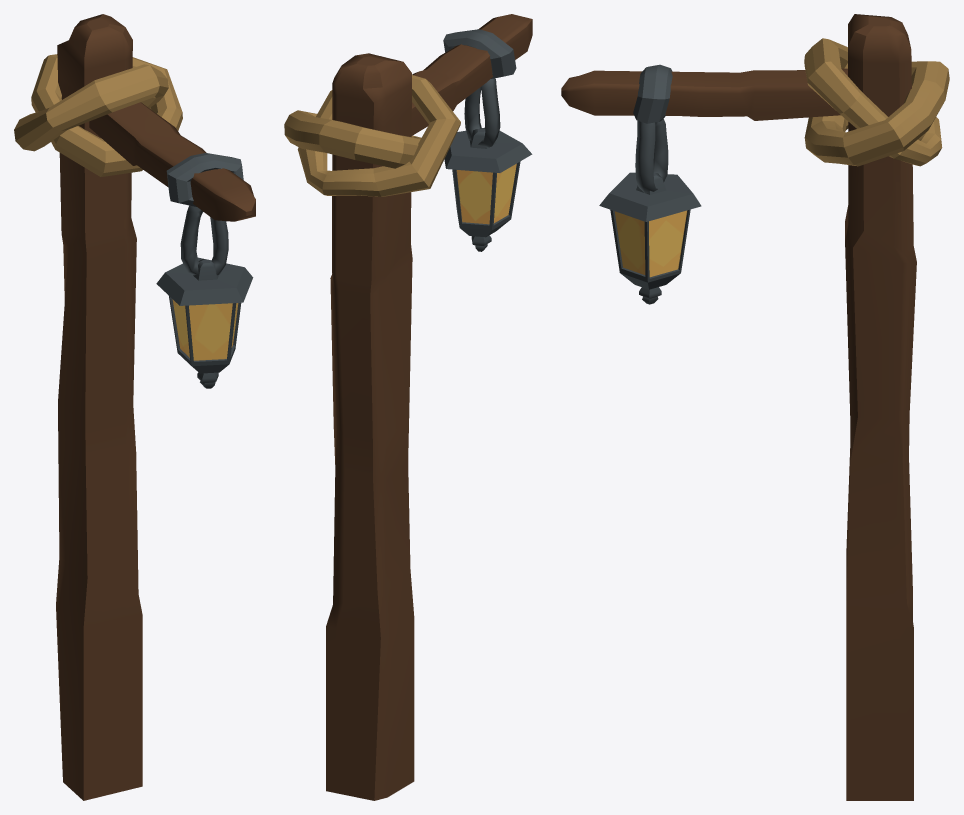
File: light.fbx
3 views of the same model, side by side, from view 1: azimuth 30°, elevation 25°; view 2: azimuth 150°, elevation 25°; view 3: azimuth 270°, elevation 25° (orthographic). The views are drawn at different scales.
Visible parts, largest first — view 1: pCube1, polySurface1, pTorus2, pTorus1, pTorus3, extrudedSurface1; view 2: pCube1, pTorus2, polySurface1, pTorus1, pTorus3, extrudedSurface1; view 3: pCube1, polySurface1, pTorus1, pTorus2, extrudedSurface1, pTorus3.
Boxes of the visible parts, x1,y1,x2,y2 form: pCube1: (56,14,255,800); polySurface1: (156,257,253,388); pTorus2: (14,64,168,151); pTorus1: (31,54,182,176); pTorus3: (166,153,243,206); extrudedSurface1: (180,205,228,275); pCube1: (326,14,532,800); pTorus2: (297,75,460,196); polySurface1: (444,127,532,251); pTorus1: (284,110,421,168); pTorus3: (443,29,516,78); extrudedSurface1: (464,78,500,147); pCube1: (561,14,916,800); polySurface1: (599,172,701,304); pTorus1: (804,61,949,166); pTorus2: (804,38,942,166); extrudedSurface1: (635,119,668,193); pTorus3: (633,64,672,123).
Bounding box in the file's own units: 1.94 × 9.24 × 4.25.
Materials: 4 (1 with a texture image).
